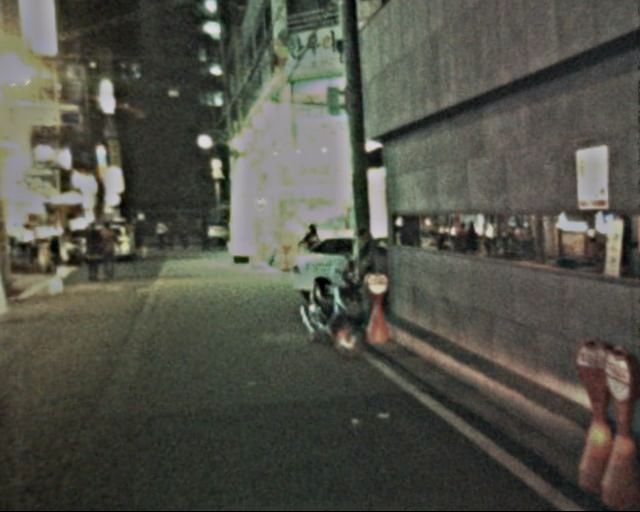person: (125, 212, 207, 252), (97, 218, 126, 282), (81, 219, 109, 282), (302, 224, 326, 277)
